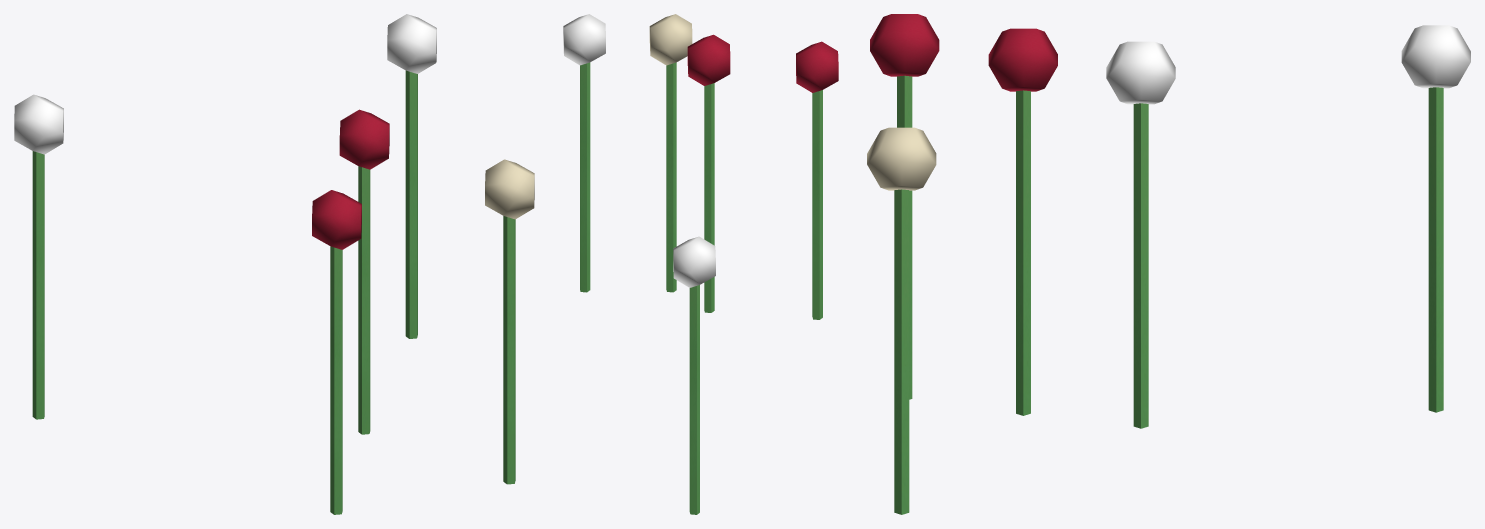
The model's file is flower.obj.
3 renders of one model, left to right at view 1: azimuth 30°, elevation 25°; view 2: azimuth 150°, elevation 25°; view 3: azimuth 270°, elevation 25°, orthographic. The views are drawn at different scales.
Size of the model in its own units: 0.5276 by 0.7174 by 0.7618.
Materials: 4 (4 with a texture image).
